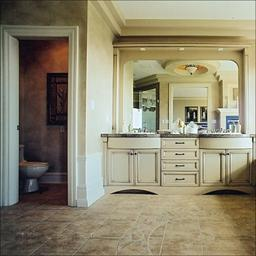Sanitario: (21, 142, 52, 194)
